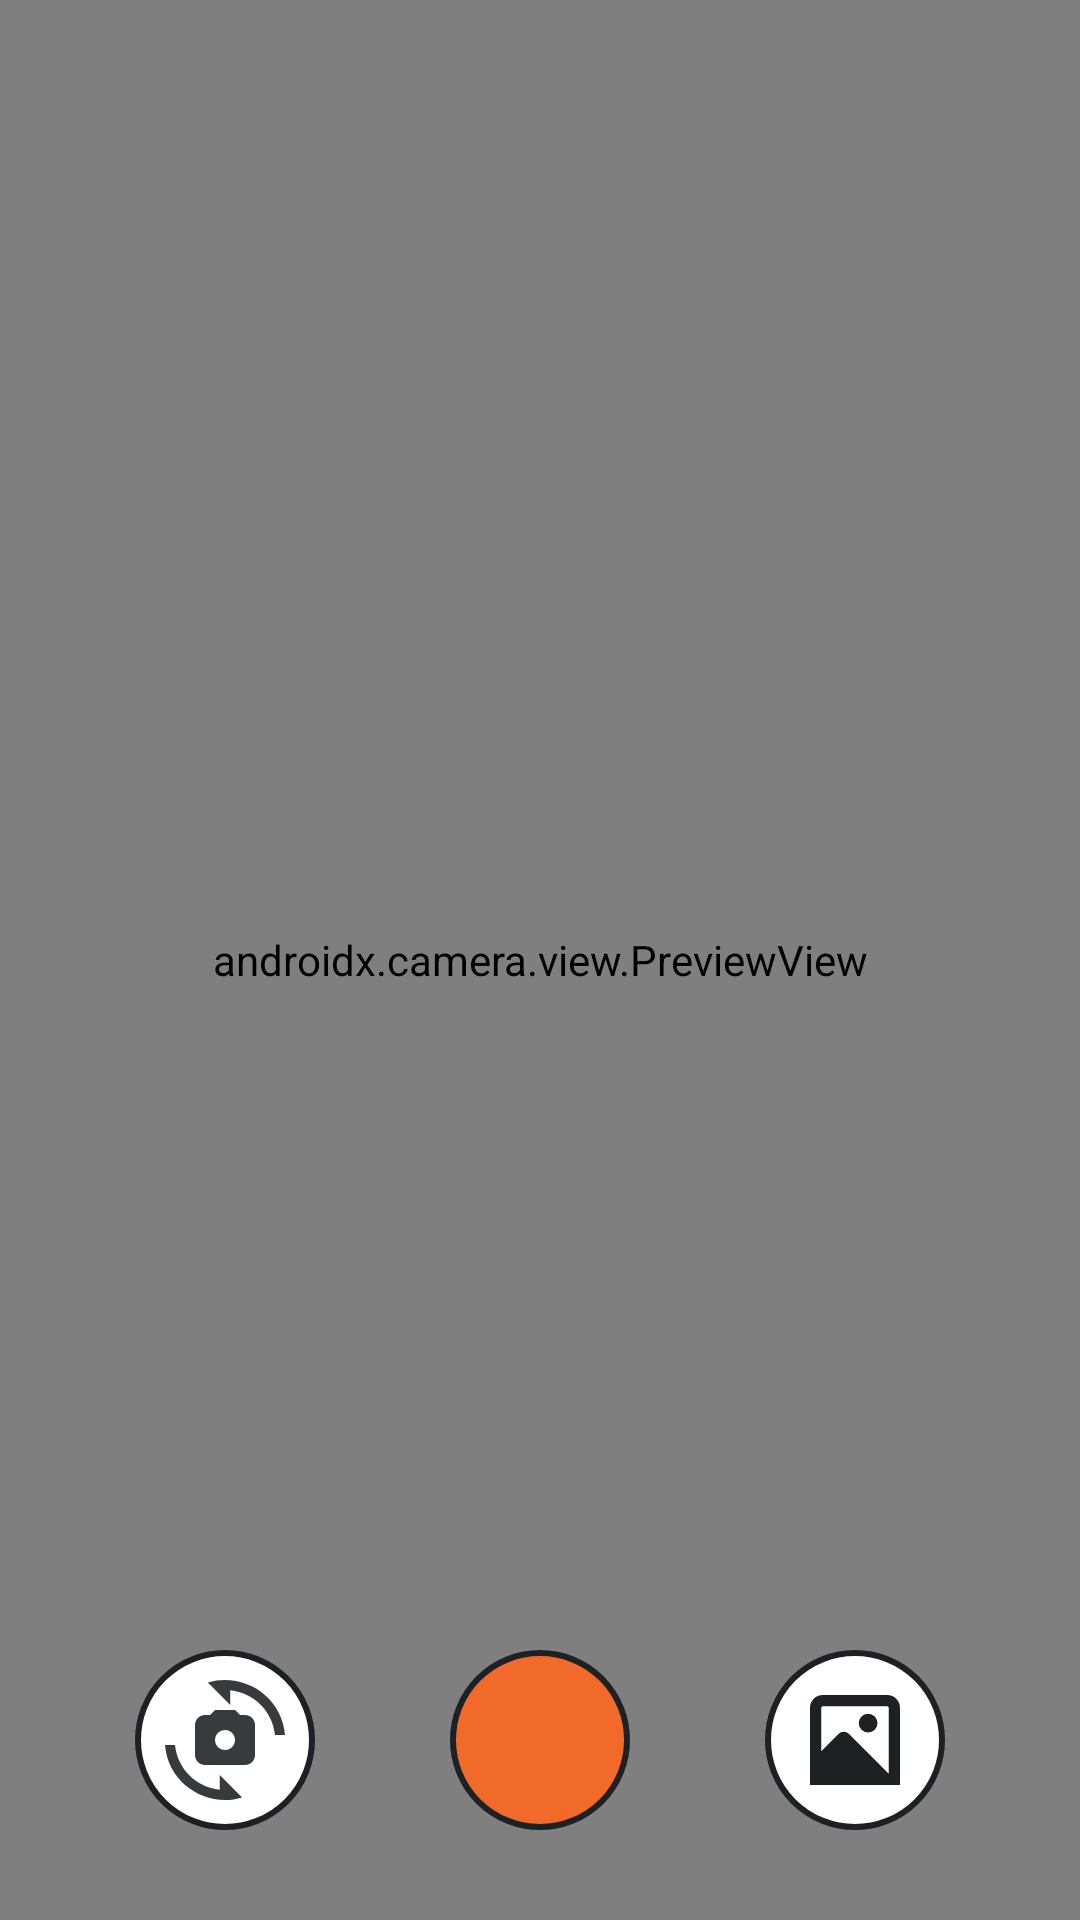

Icons on this 1080×1920 Android screen, each with the point to tap as (x,y):
camera switch: (225,1740)
gallery: (855,1740)
